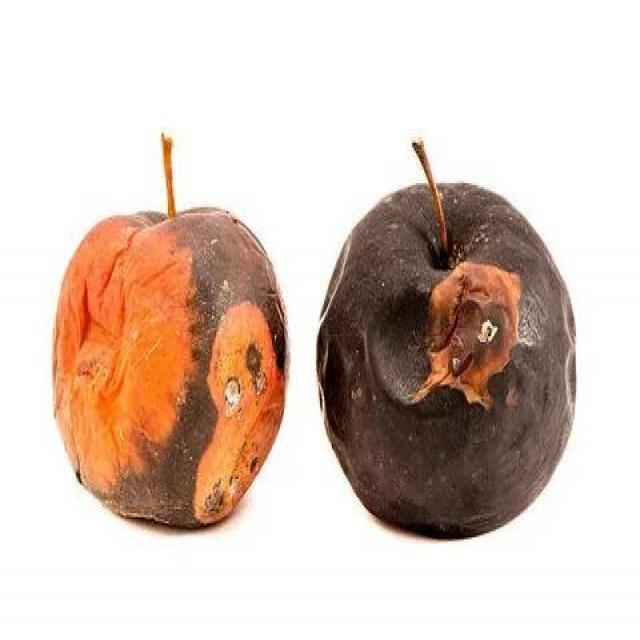Rotten: (312, 200, 572, 537), (59, 212, 278, 526)
